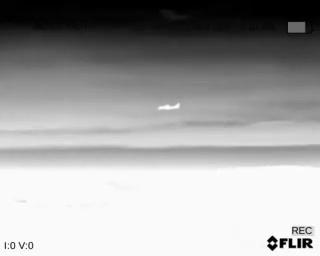AIRPLANE: (156, 101, 181, 113)
